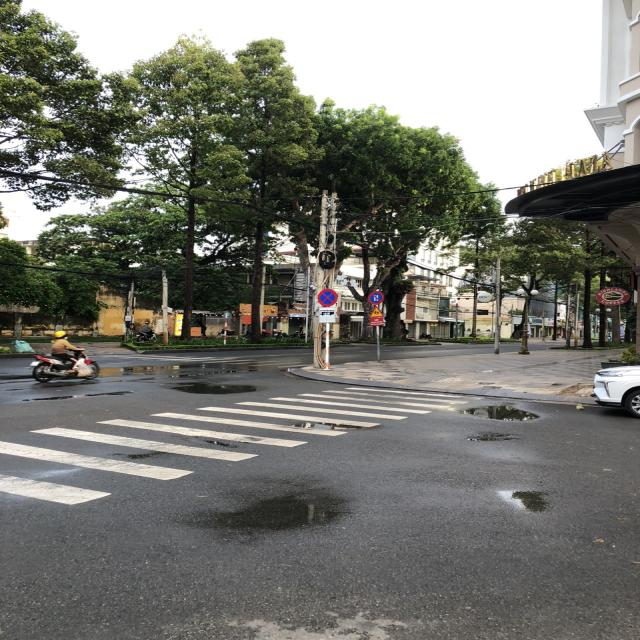Bien bao cam dung xe va do xe: (316, 287, 338, 308)
Bien bao tre em: (370, 306, 385, 317)
